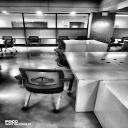chair_success: (18, 68, 73, 111), (54, 48, 70, 73)
